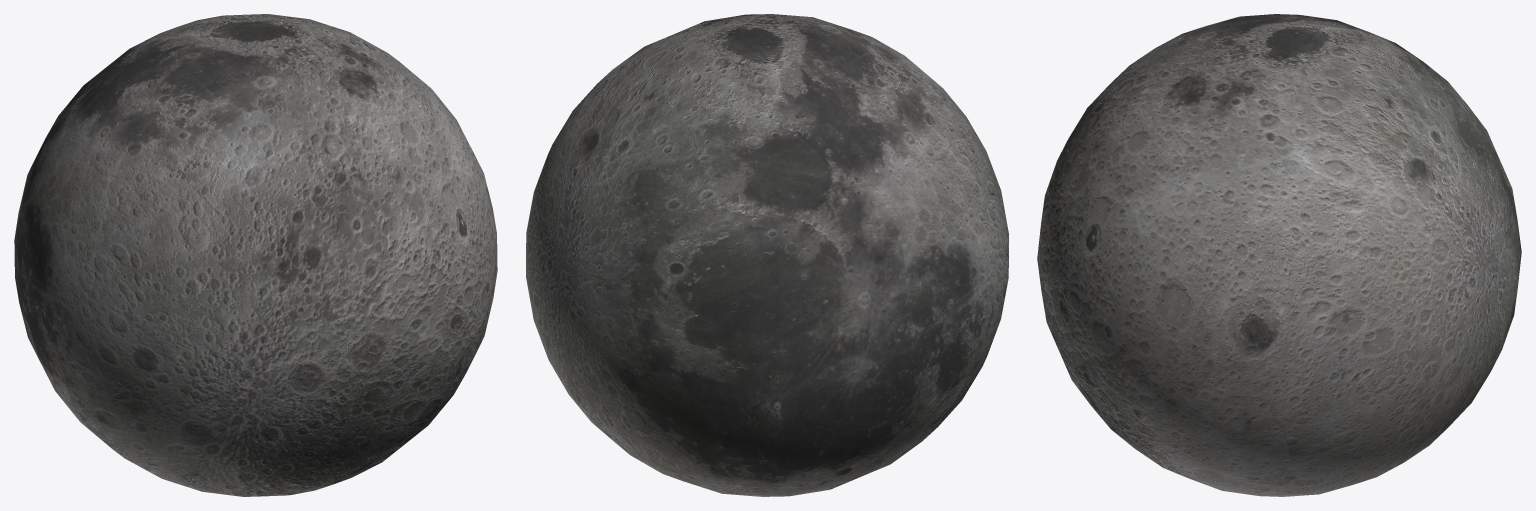
Rendered from moon.glb.
The picture shows the model from 3 angles, left to right: view 1: azimuth 30°, elevation 25°; view 2: azimuth 150°, elevation 25°; view 3: azimuth 270°, elevation 25°; orthographic projection.
Visible parts, largest first — view 1: Moon; view 2: Moon; view 3: Moon.
Boxes of the visible parts, x1,y1,x2,y2 form: Moon: (14, 14, 497, 496); Moon: (526, 14, 1008, 496); Moon: (1037, 14, 1521, 496).
Size of the model in its own units: 3.48 by 3.48 by 3.49.
1 material, 1 textured.
